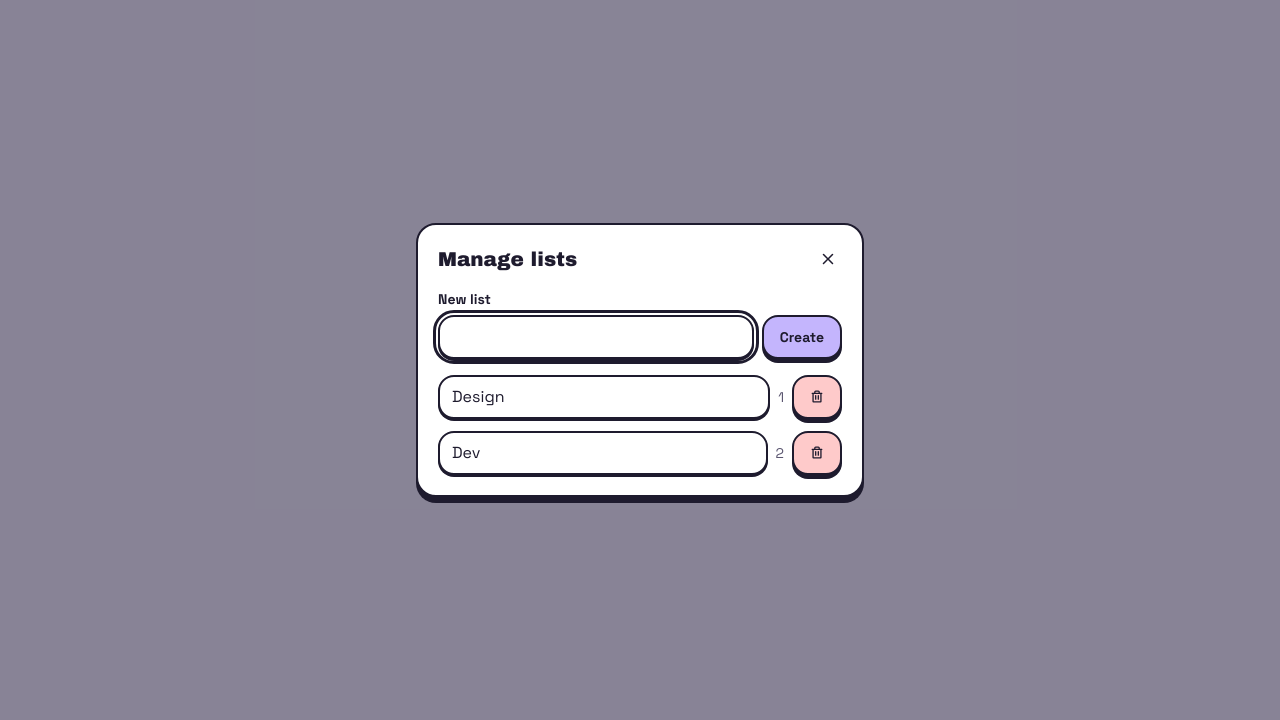
Test: ManageListsDialog › puts the list's name back when a rename is refused
Replace the text in the 2nd field named "Name of the list Dev" with "Design": (603, 453) [438, 431, 768, 475]
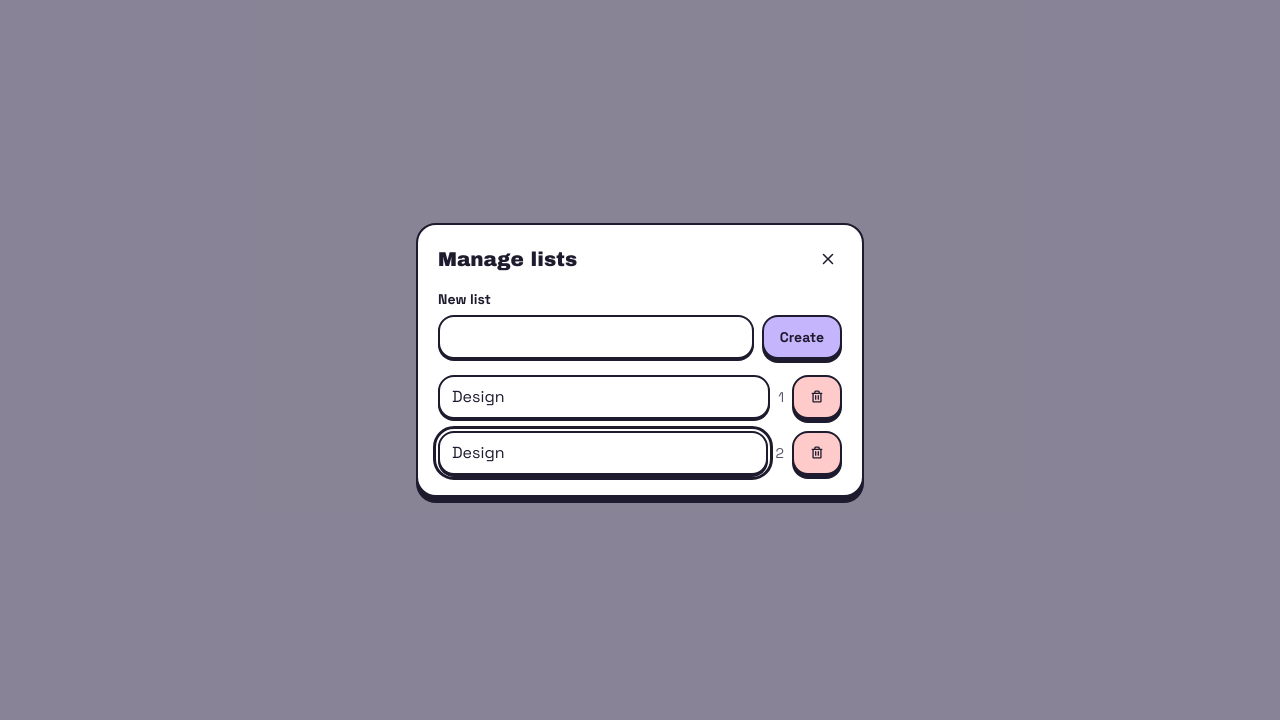
Press Tab
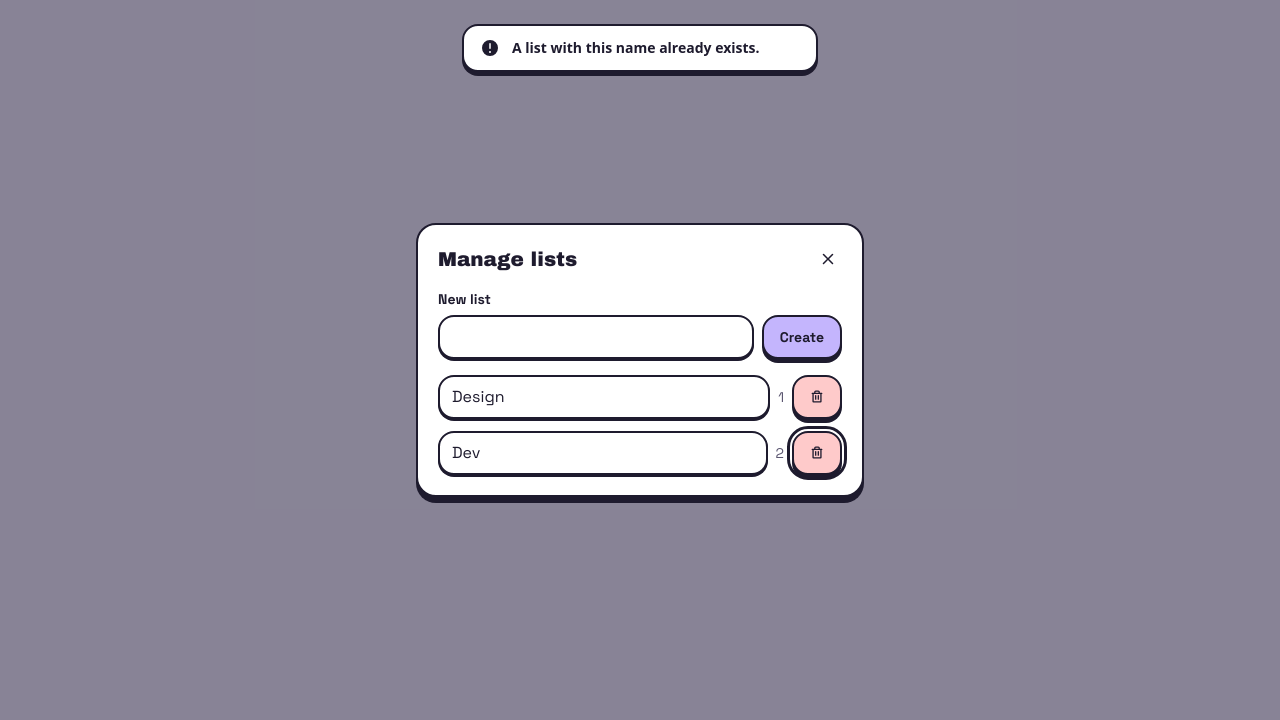
Check: the 2nd field named "Name of the list Dev" holds "Dev", box [438, 431, 768, 475]
Check: the text "A list with this name already exists." is shown, box [512, 38, 760, 58]
